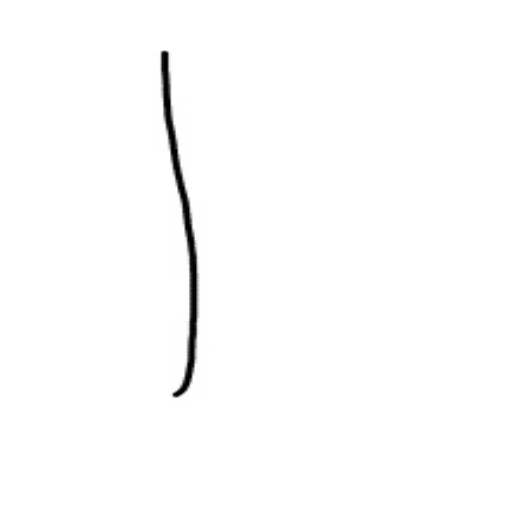line: (147, 48, 213, 403)
